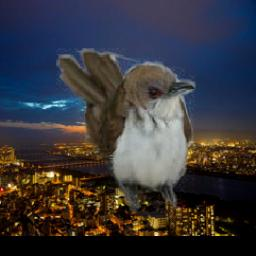Cuckoo: (57, 48, 197, 213)
